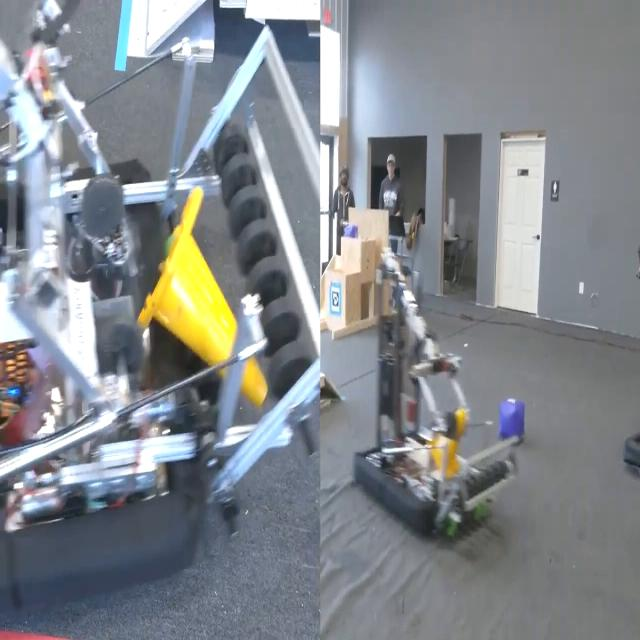frc_cone: (152, 220, 273, 404), (422, 406, 468, 480)
frc_cube: (492, 396, 530, 442), (341, 216, 359, 241)
